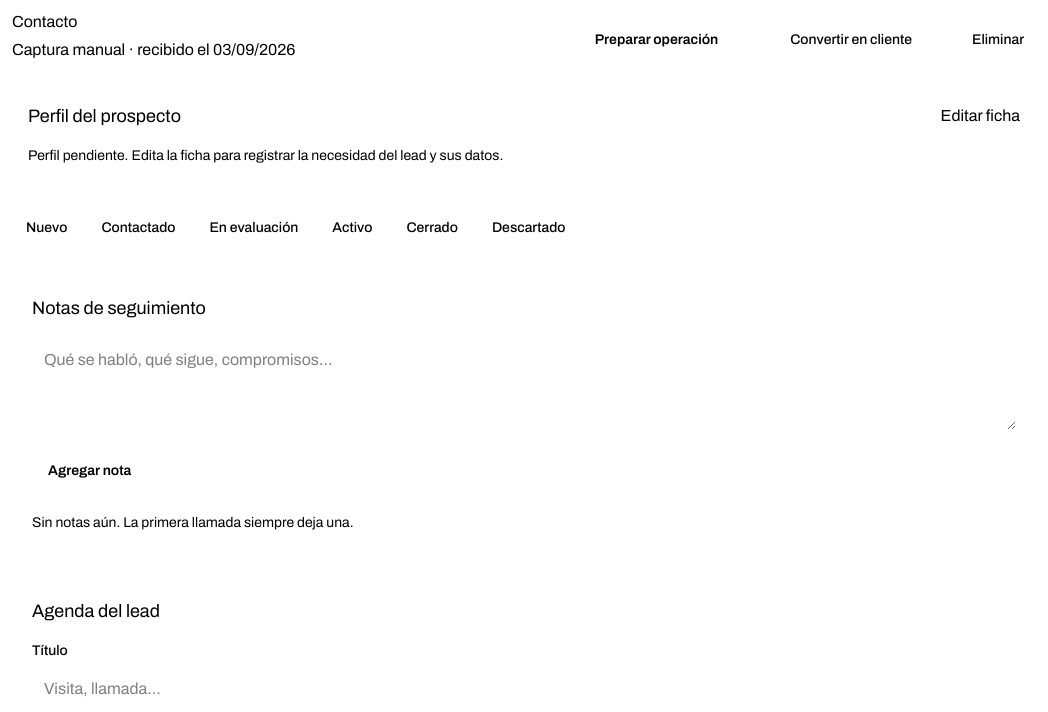
Test: lead note composition retains the opening version across refresh
(page scrolled)
Type "Mi nota" into the text box named "Nueva nota".
click(524, 384); type("Mi nota")  # box [32, 338, 1016, 430]
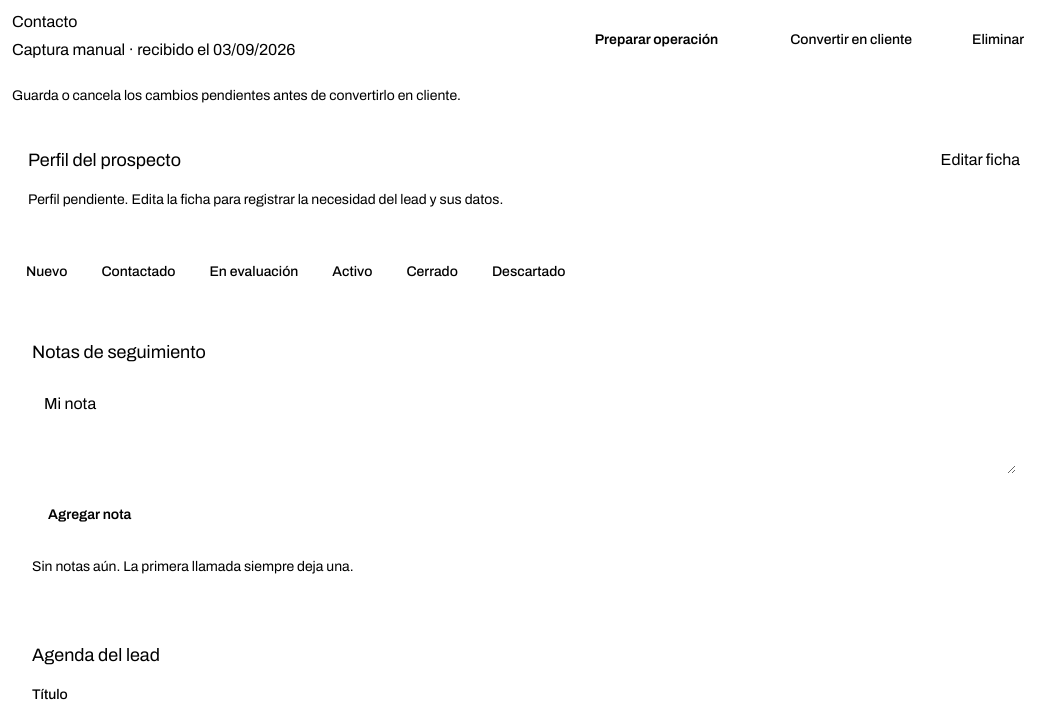
Submit the form "Agregar nota", box [32, 382, 1016, 537]
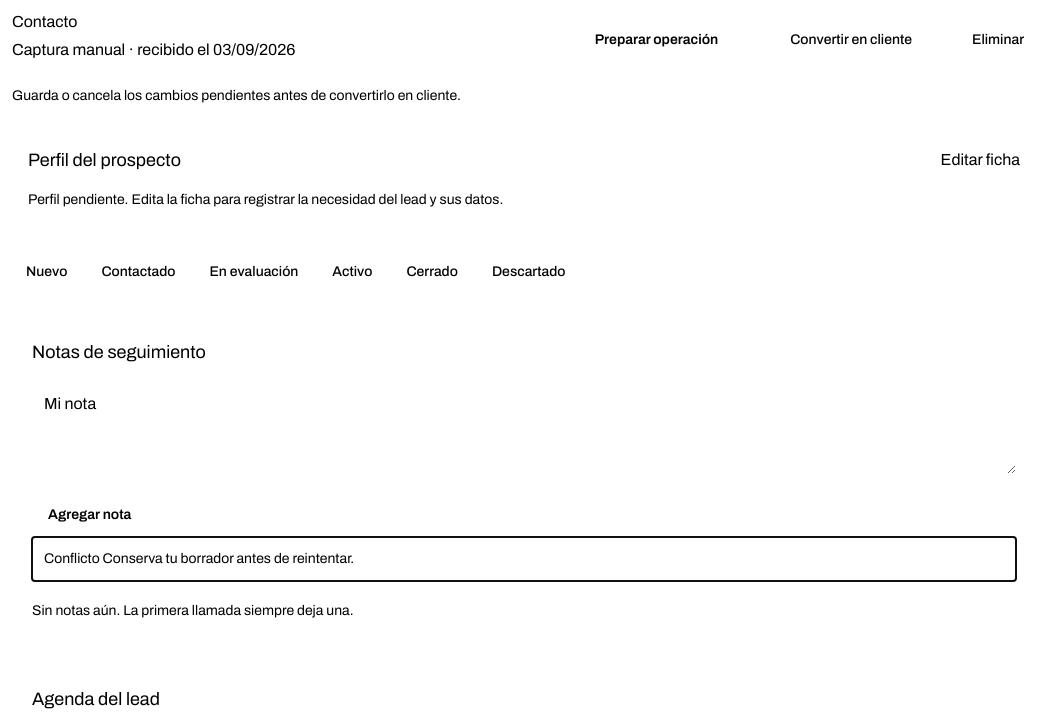
Result: the message "Conflicto Conserva tu borrador antes de reintentar." is shown at [44, 551, 354, 566]
